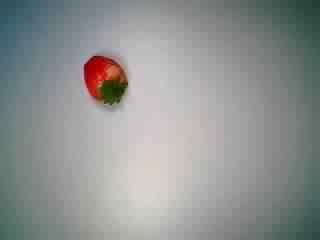strawberry: (71, 45, 139, 109)
